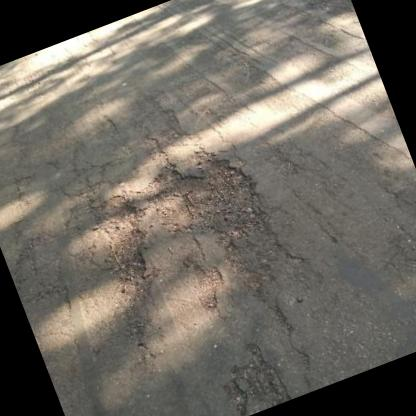pothole: (130, 132, 272, 263), (82, 188, 164, 298)
